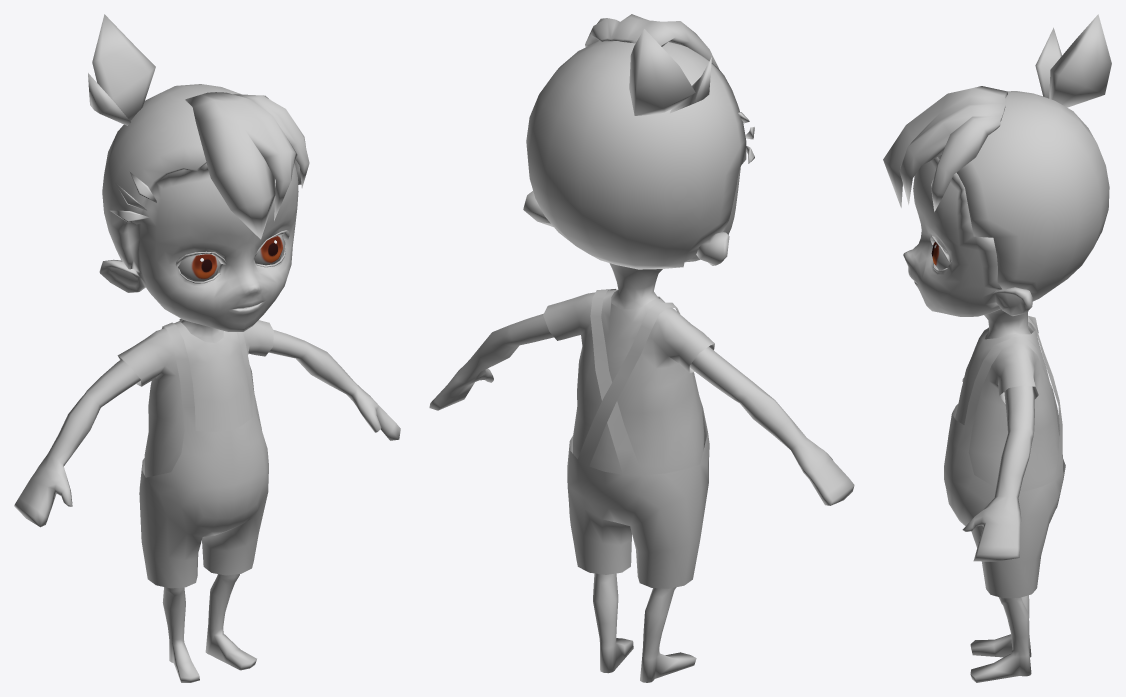
Rendered from work_texturing_girl_001.fbx.
3 renders of one model, left to right at view 1: azimuth 30°, elevation 25°; view 2: azimuth 150°, elevation 25°; view 3: azimuth 270°, elevation 25°, orthographic. The views are drawn at different scales.
Visible parts, largest first — view 1: RetopoFlow.023; view 2: RetopoFlow.023; view 3: RetopoFlow.023.
Boxes of the visible parts, x1,y1,x2,y2 form: RetopoFlow.023: (14, 14, 400, 682); RetopoFlow.023: (429, 14, 854, 682); RetopoFlow.023: (883, 14, 1111, 682).
Size of the model in its own units: 62.8 by 103 by 34.06.
